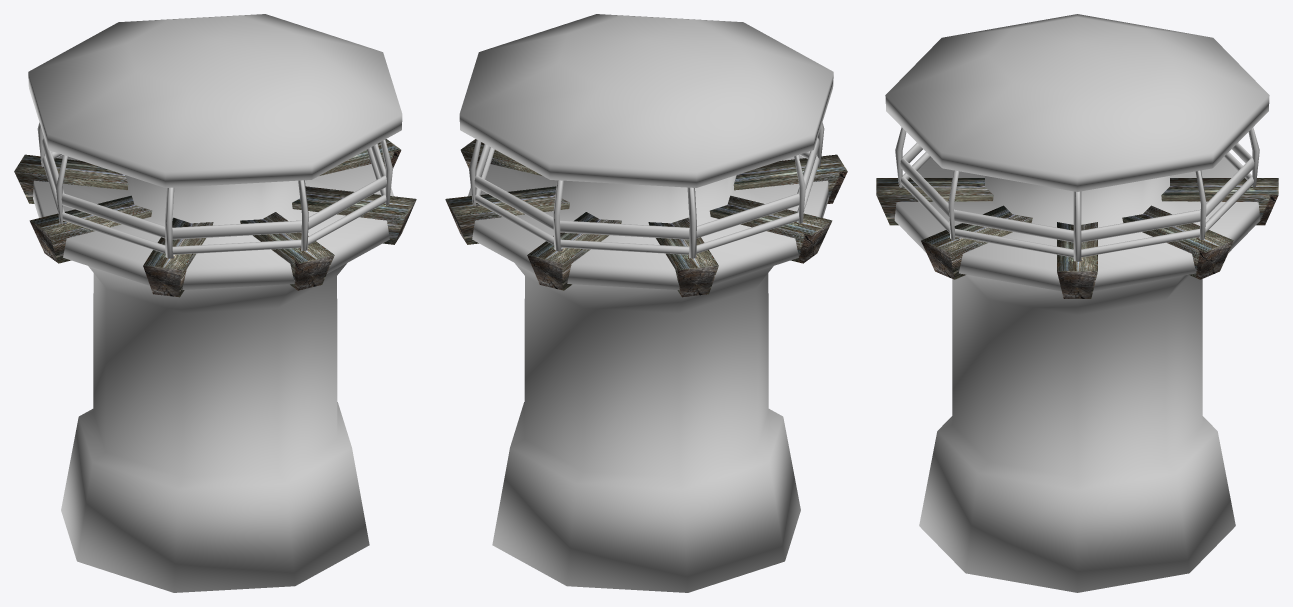
Rendered from TowerGrouped.fbx.
3 views of the same model, side by side, from view 1: azimuth 30°, elevation 25°; view 2: azimuth 150°, elevation 25°; view 3: azimuth 270°, elevation 25° (orthographic).
Visible parts, largest first — view 1: pCylinder1; view 2: pCylinder1; view 3: pCylinder1.
Part boxes in pixels (x1,y1,x2,y2): pCylinder1: (14,14,416,592); pCylinder1: (445,14,847,592); pCylinder1: (876,14,1278,592).
Bounding box in the file's own units: 12.51 × 16.57 × 12.51.
